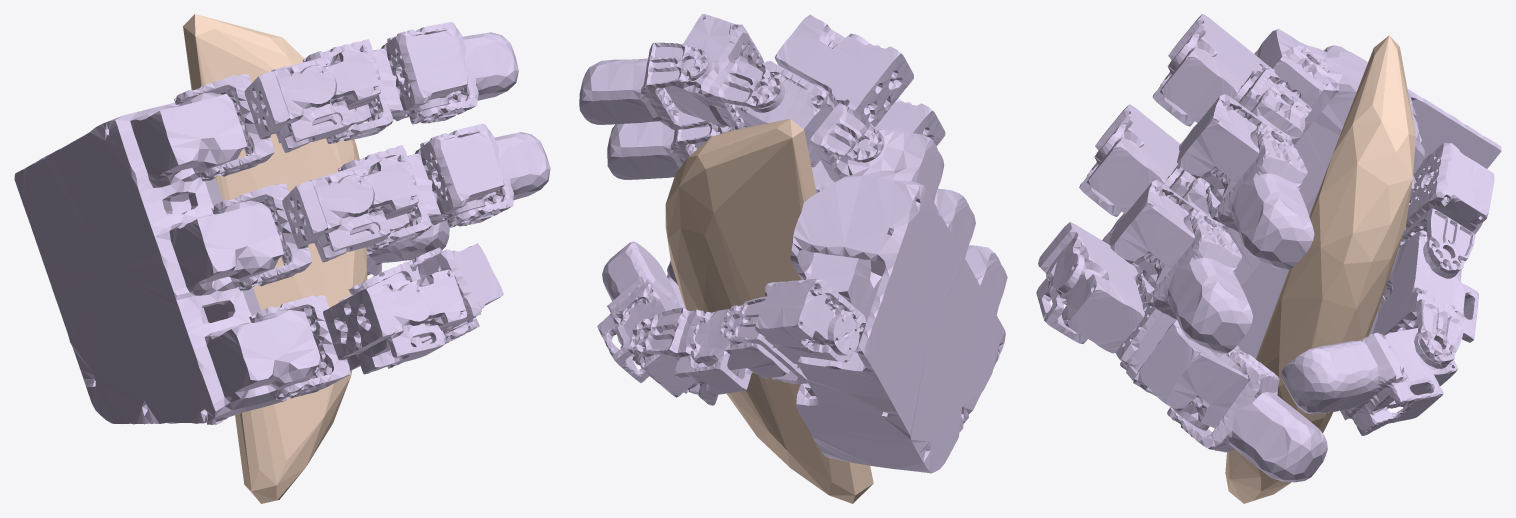
The picture shows the model from 3 angles, left to right: view 1: azimuth 30°, elevation 25°; view 2: azimuth 150°, elevation 25°; view 3: azimuth 270°, elevation 25°; orthographic projection. The views are drawn at different scales.
Parts seen in each view (by area): view 1: LEAP_hand, world; view 2: LEAP_hand, world; view 3: LEAP_hand, world.
Part boxes in pixels (x1,y1,x2,y2): LEAP_hand: (14,22,550,424); world: (183,14,367,503); LEAP_hand: (579,14,1007,473); world: (665,119,873,503); LEAP_hand: (1036,14,1501,482); world: (1225,35,1415,503).
Bounding box in the file's own units: 0.177 × 0.1986 × 0.1724.
